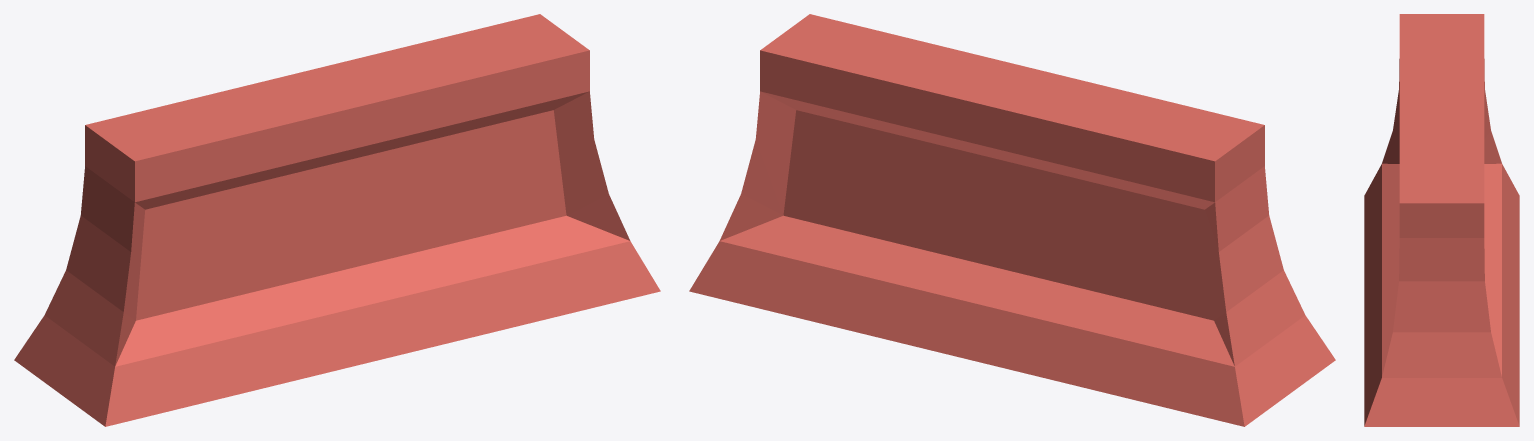
Rendered from barrier.fbx.
3 views of the same model, side by side, from view 1: azimuth 30°, elevation 25°; view 2: azimuth 150°, elevation 25°; view 3: azimuth 270°, elevation 25° (orthographic). The views are drawn at different scales.
Visible parts, largest first — view 1: Cube; view 2: Cube; view 3: Cube.
Part boxes in pixels (<box>): Cube: <box>14,14,660,426</box>; Cube: <box>689,14,1335,426</box>; Cube: <box>1364,14,1519,426</box>.
Bounding box in the file's own units: 244 × 100 × 69.5.
